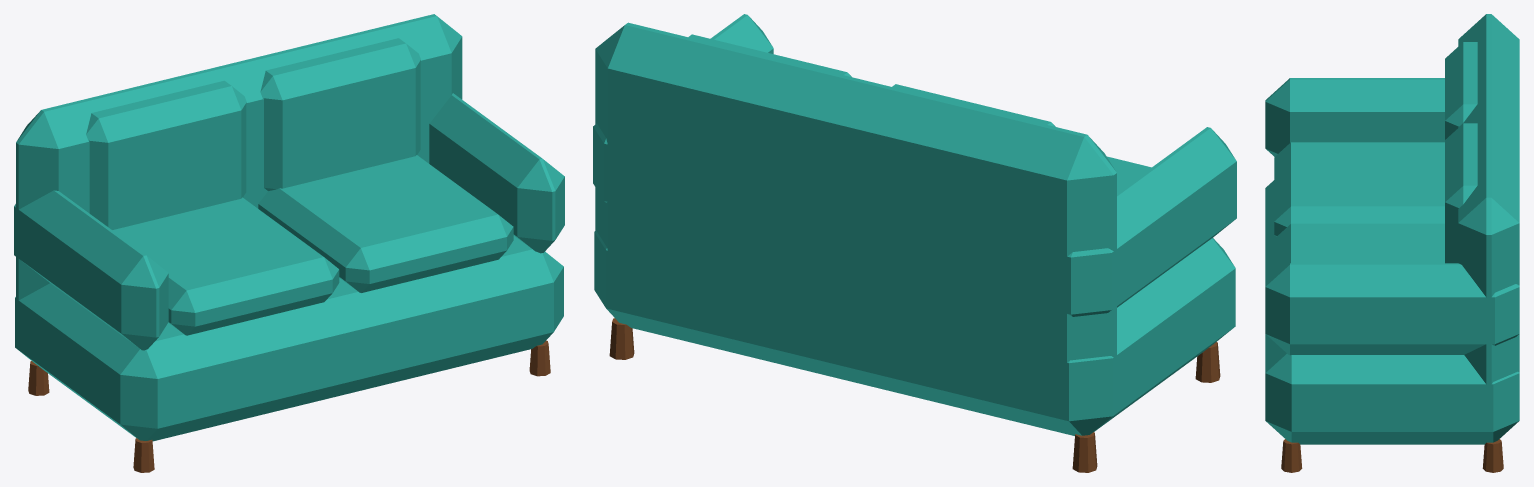
File: TealSofa.fbx
3 renders of one model, left to right at view 1: azimuth 30°, elevation 25°; view 2: azimuth 150°, elevation 25°; view 3: azimuth 270°, elevation 25°, orthographic. The views are drawn at different scales.
Visible parts, largest first — view 1: TealSofa; view 2: TealSofa; view 3: TealSofa.
Boxes of the visible parts, box(x1,y1,x2,y2) form: TealSofa: box(14, 14, 564, 472); TealSofa: box(593, 14, 1236, 472); TealSofa: box(1265, 14, 1519, 472).
Bounding box in the file's own units: 5.6 × 3.4 × 2.9.
Materials: 1 (1 with a texture image).
